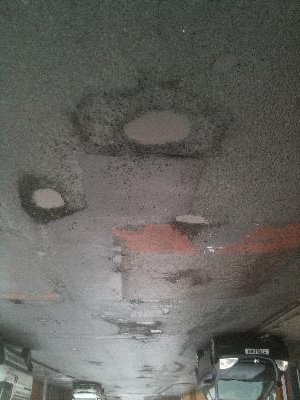pothole: (71, 85, 235, 160), (17, 174, 77, 226), (118, 318, 165, 338), (169, 211, 212, 232)
